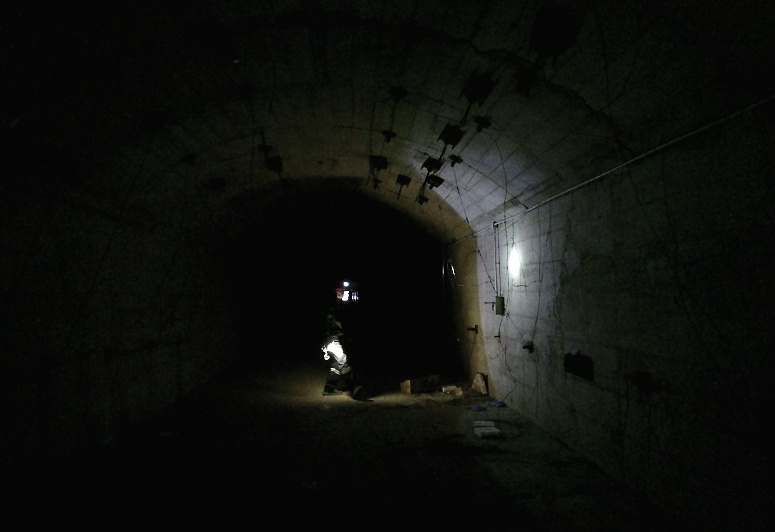person: (317, 279, 371, 407)
